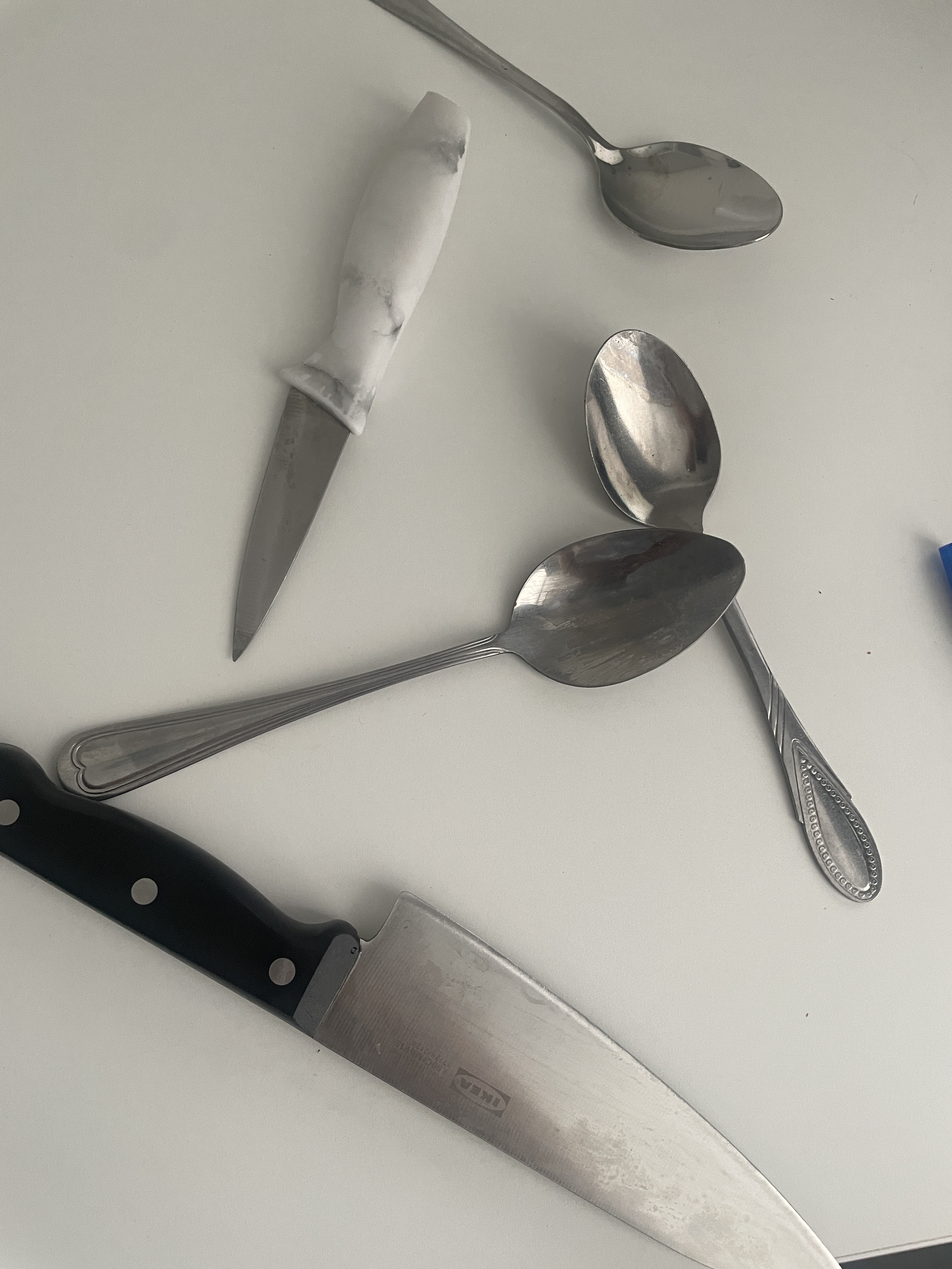knife: (0, 745, 839, 1269), (233, 93, 470, 660)
spoon: (58, 528, 745, 799), (583, 328, 882, 902), (374, 0, 783, 250)
